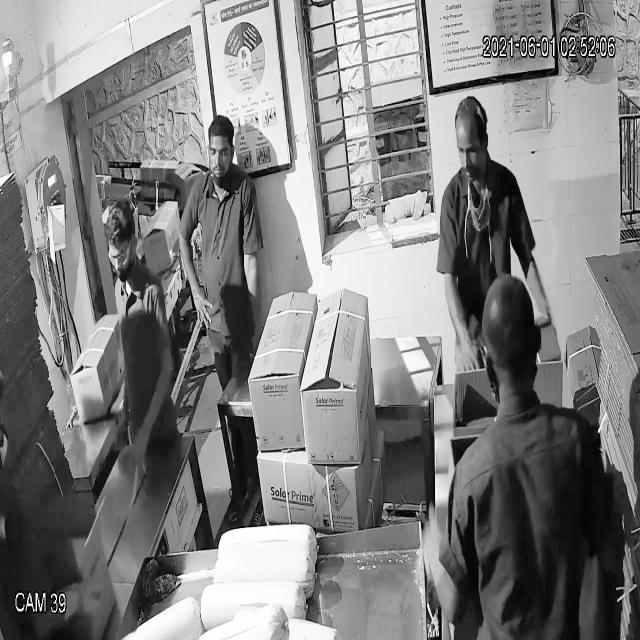glasses: (98, 237, 142, 275)
no-glass: (449, 132, 492, 164)
